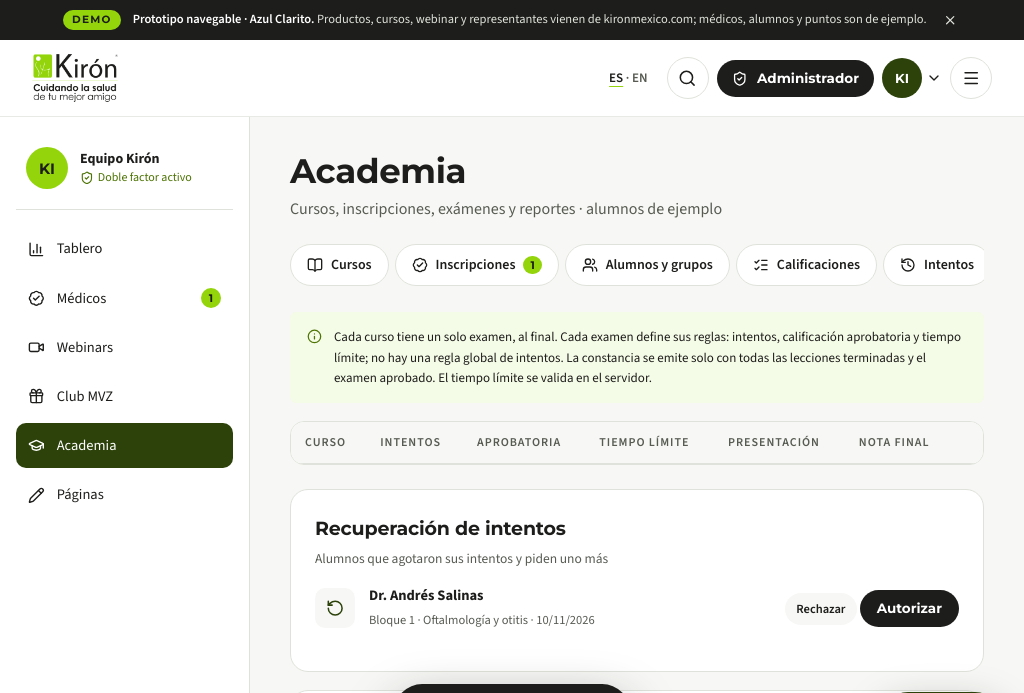
Test case: exámenes › autoriza un intento adicional
Click the button with aria-label "Autorizar · Dr. Andrés Salinas": {"x": 909, "y": 608} [860,590,959,627]
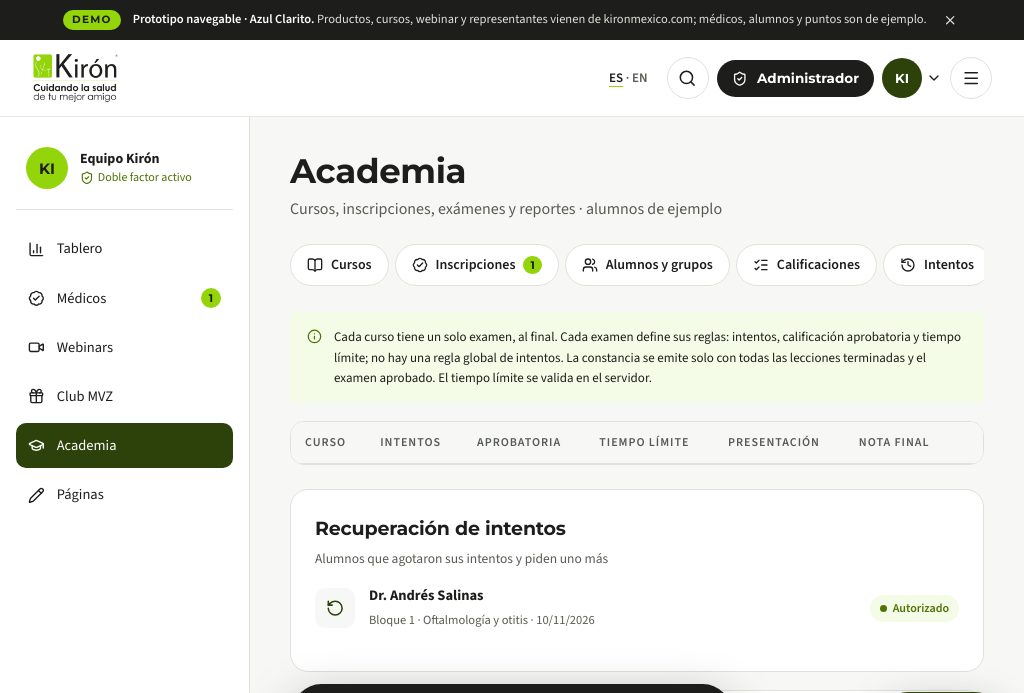
Result: the text "Autorizado" is shown at [870,595,959,622]
